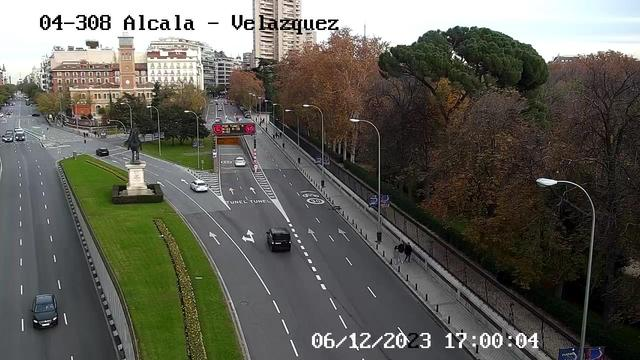car: (30, 294, 58, 330), (266, 228, 291, 253)
